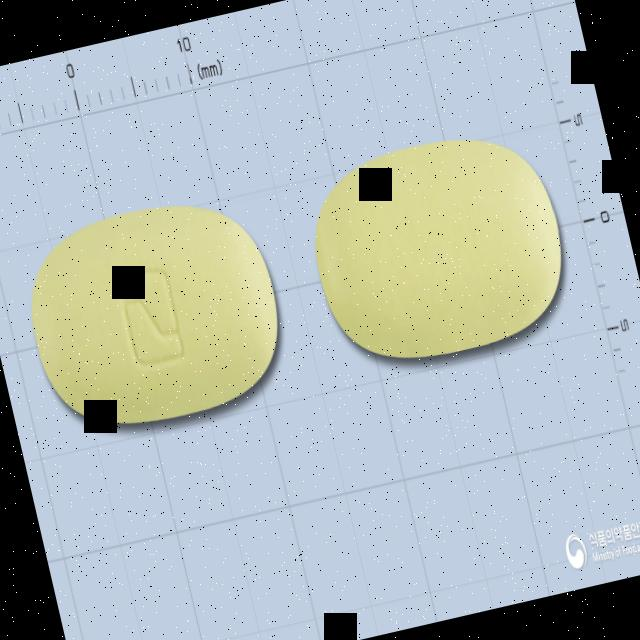Claroma: (11, 180, 299, 448)
